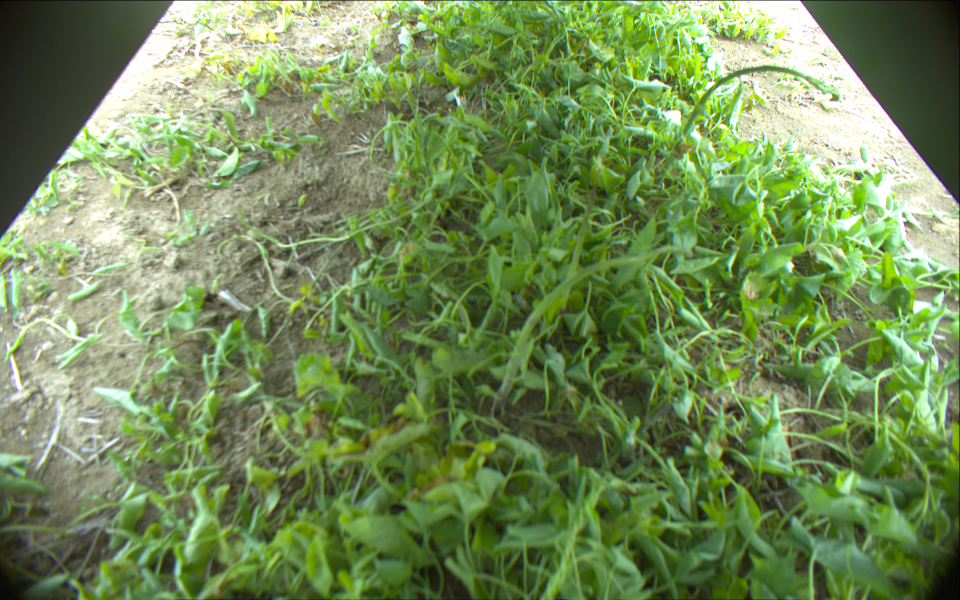aspa: (491, 244, 694, 415), (676, 66, 841, 154), (558, 185, 597, 312)
